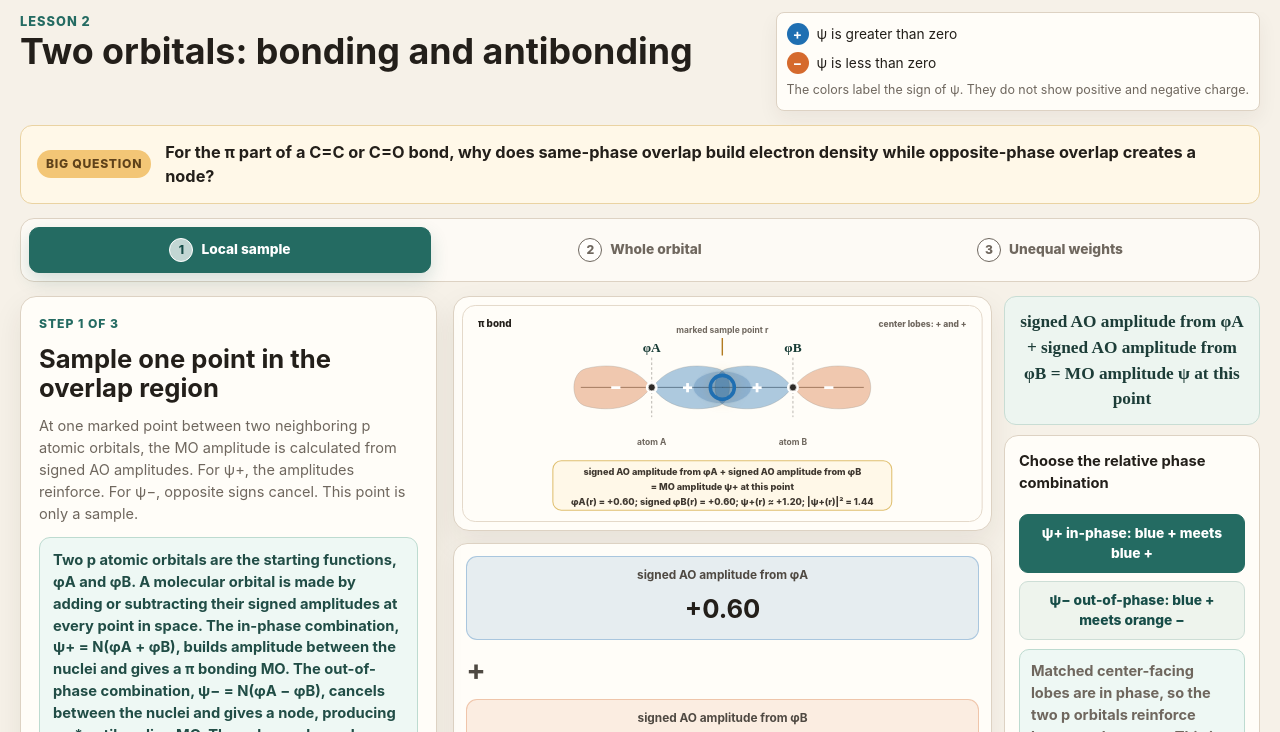
Test: Lesson 2 combination coefficient explanation › keeps the whole-orbital step grounded in bonding and antibonding pictures
Click the button "2 Whole orbital".
click(640, 250)  # box [439, 227, 841, 273]
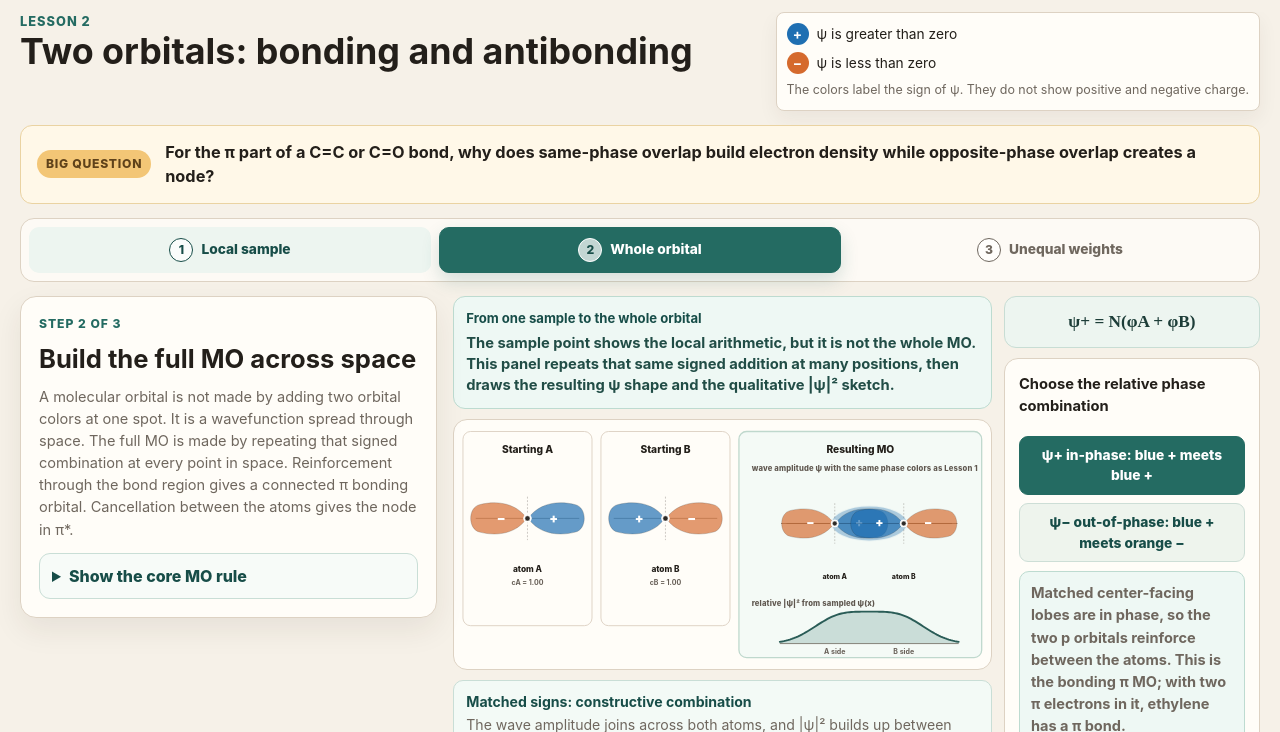
Result: the text "Build the full MO across space" is shown at [39, 345, 418, 374]
Result: the text "A molecular orbital is not made by adding two orbital colors at one spot" is shown at [39, 388, 417, 539]
Result: the text "The full MO is made by repeating that signed combination" is shown at [39, 388, 417, 539]
